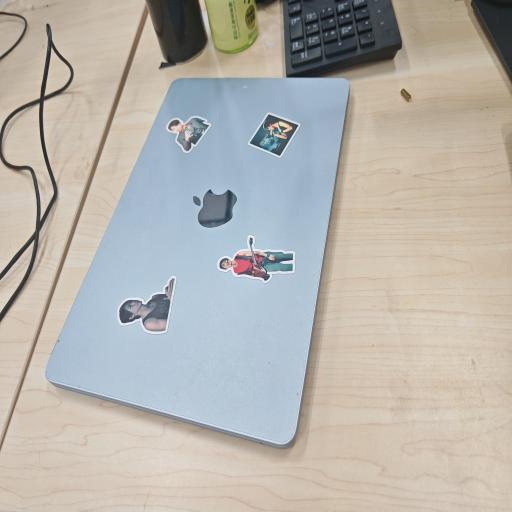laptop: (46, 78, 349, 448)
